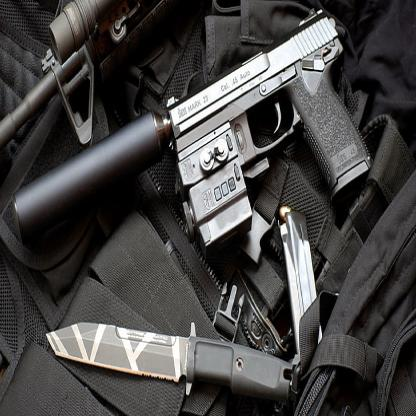Gun: (0, 0, 165, 149)
Knife: (46, 318, 293, 405)
Pistol: (11, 9, 373, 258)
